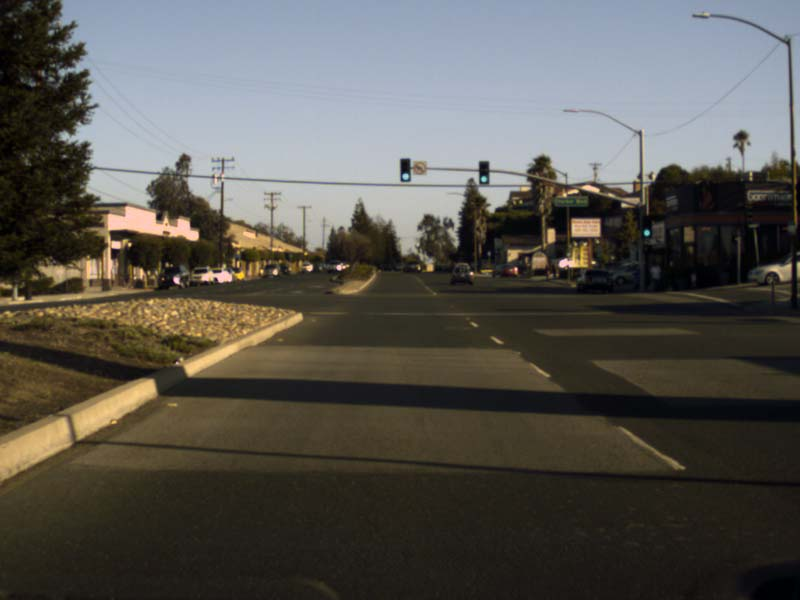Green: (399, 158, 410, 181), (641, 215, 650, 237), (478, 161, 487, 183)
